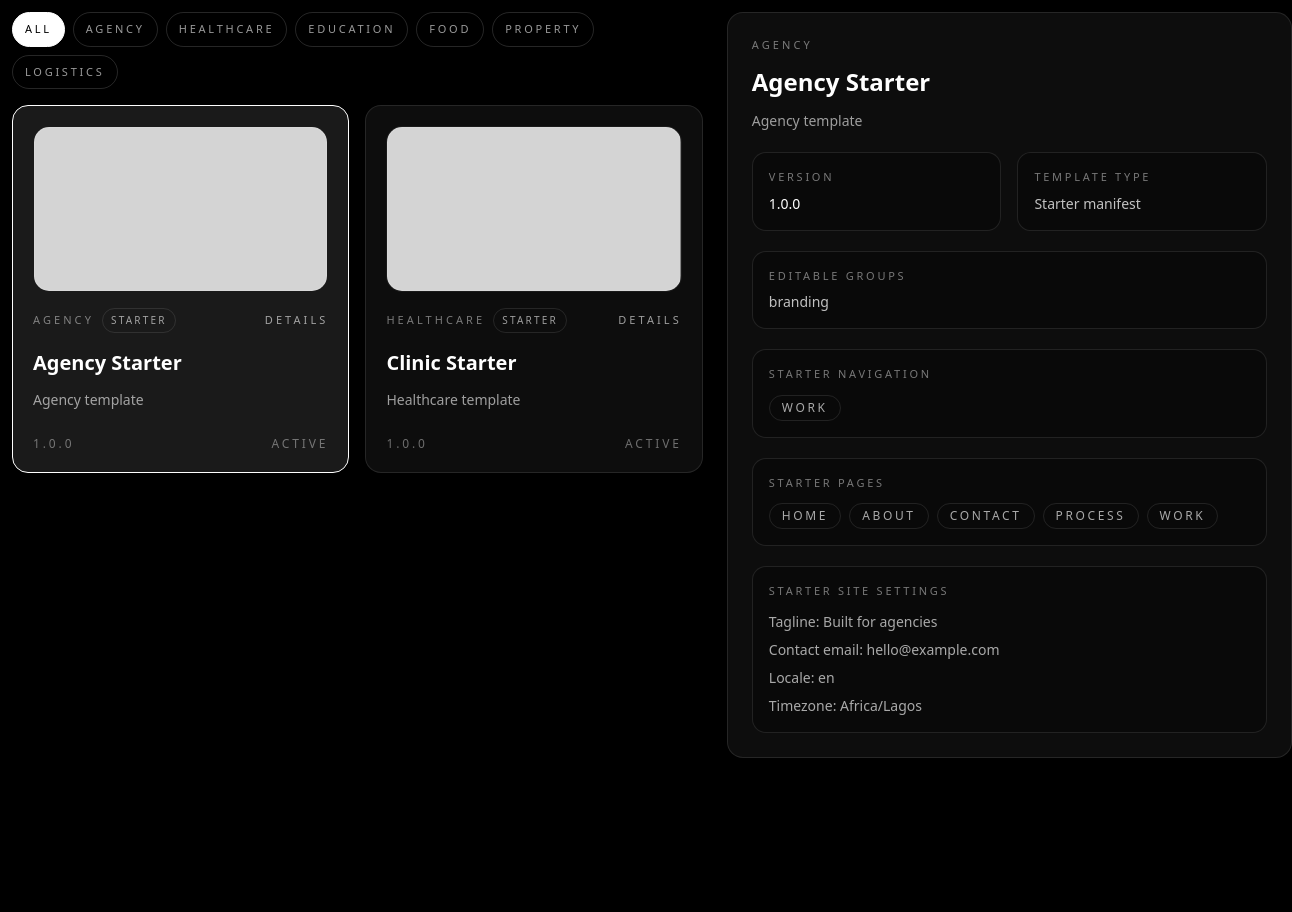
it: TemplateGallery › filters templates by category
Expected: the number of headings "Agency Starter" is 2, x1=33 y1=349 x2=182 y2=376; x1=752 y1=64 x2=930 y2=98
Expected: the number of headings "Clinic Starter" is 1, x1=386 y1=349 x2=516 y2=376
Click the button "Healthcare": (227, 29) x1=166 y1=12 x2=287 y2=46
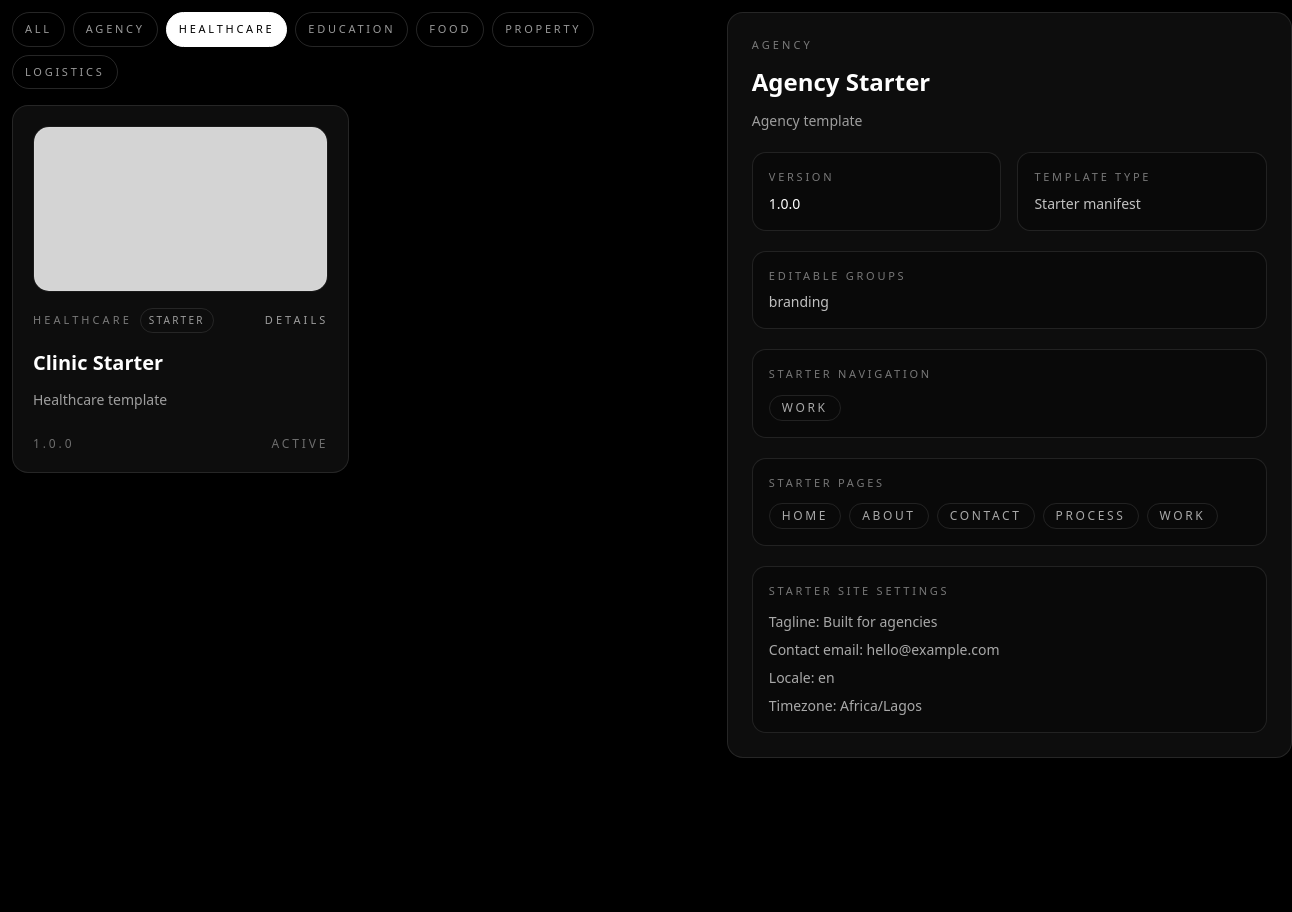
Expected: the number of headings "Agency Starter" is 1, x1=752 y1=64 x2=930 y2=98
Result: the number of headings "Clinic Starter" is 1 at x1=33 y1=349 x2=163 y2=376
